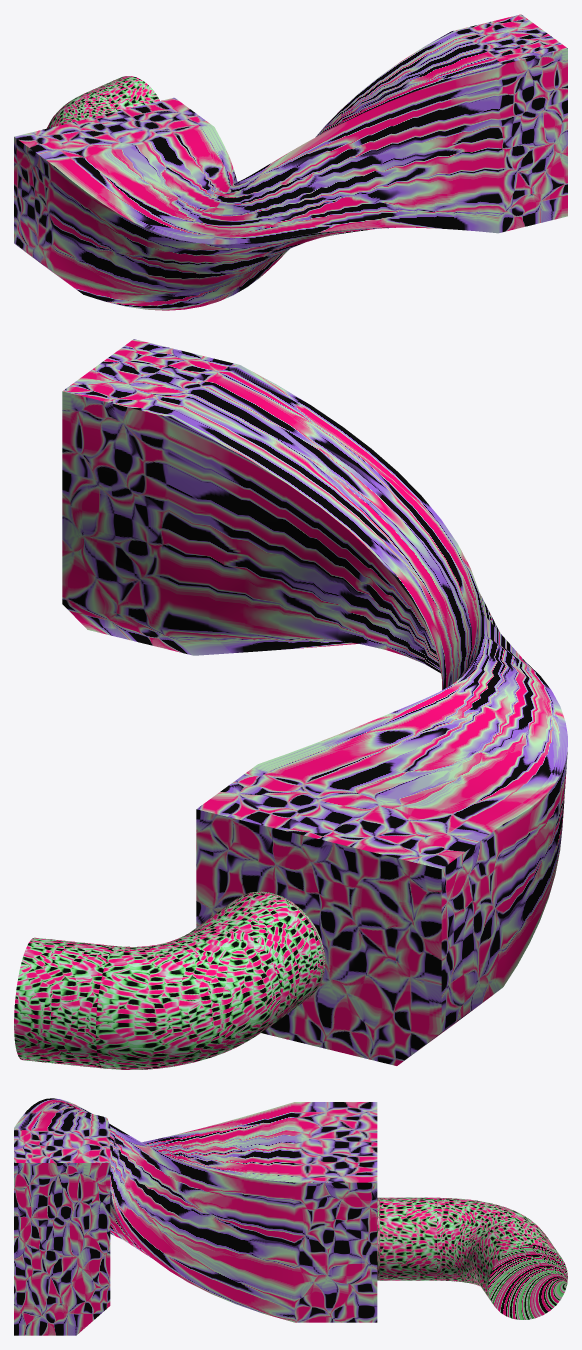
Rendered from SM_Level_Circus00.fbx.
The picture shows the model from 3 angles, top to bottom: view 1: azimuth 30°, elevation 25°; view 2: azimuth 150°, elevation 25°; view 3: azimuth 270°, elevation 25°; orthographic projection. The views are drawn at different scales.
Visible parts, largest first — view 1: SM_Level_Circus00; view 2: SM_Level_Circus00; view 3: SM_Level_Circus00.
Part boxes in pixels (x1,y1,x2,y2): SM_Level_Circus00: [14, 14, 567, 310]; SM_Level_Circus00: [14, 339, 567, 1069]; SM_Level_Circus00: [14, 1098, 567, 1335].
Bounding box in the file's own units: 2055 × 1357 × 2535.
